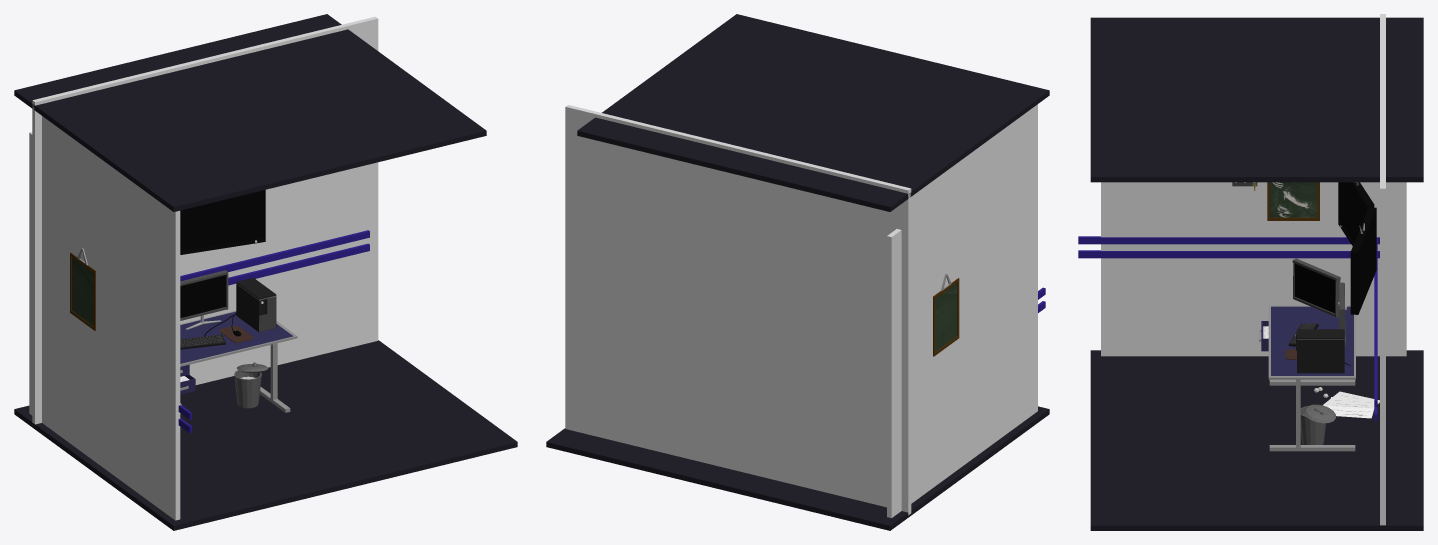
File: MesaMenuCamera.fbx
The picture shows the model from 3 angles, left to right: view 1: azimuth 30°, elevation 25°; view 2: azimuth 150°, elevation 25°; view 3: azimuth 270°, elevation 25°; orthographic projection. The views are drawn at different scales.
Parts seen in each view (by area): view 1: Cube.026, Cube.001, Cube.025, Cube.023, Cube.044, Cube.015, Cube.019, Cube.021, Cube.047, Cylinder.010; view 2: Cube.026, Cube.001, Cube.025, Cube.047; view 3: Cube.001, Cube.025, Cube.026, Cube.044, Cube.015, Cube.021, Cube.023, Cube.047, Cube.024, Cube.014, Cube.036, Cube.007 (+6 smaller).
Boxes of the visible parts, <box> form: Cube.026: <box>29,16,378,520</box>; Cube.001: <box>14,14,486,211</box>; Cube.025: <box>14,340,517,530</box>; Cube.023: <box>180,190,265,254</box>; Cube.044: <box>178,230,369,433</box>; Cube.015: <box>180,311,292,363</box>; Cube.019: <box>180,275,225,318</box>; Cube.021: <box>236,277,276,332</box>; Cube.047: <box>71,257,93,326</box>; Cylinder.010: <box>234,370,261,408</box>; Cube.026: <box>565,104,1037,518</box>; Cube.001: <box>577,14,1049,211</box>; Cube.025: <box>546,406,1049,530</box>; Cube.047: <box>935,283,957,351</box>; Cube.001: <box>1090,17,1423,182</box>; Cube.025: <box>1090,350,1423,530</box>; Cube.026: <box>1101,14,1406,525</box>; Cube.044: <box>1078,236,1379,420</box>; Cube.015: <box>1271,306,1353,375</box>; Cube.021: <box>1296,329,1344,373</box>; Cube.023: <box>1350,207,1376,314</box>; Cube.047: <box>1270,182,1317,217</box>; Cube.024: <box>1338,182,1374,245</box>; Cube.014: <box>1294,263,1335,313</box>; Cube.036: <box>1327,397,1374,418</box>; Cube.007: <box>1268,305,1355,379</box>.
Bounding box in the file's own units: 3021 × 2771 × 2516.
